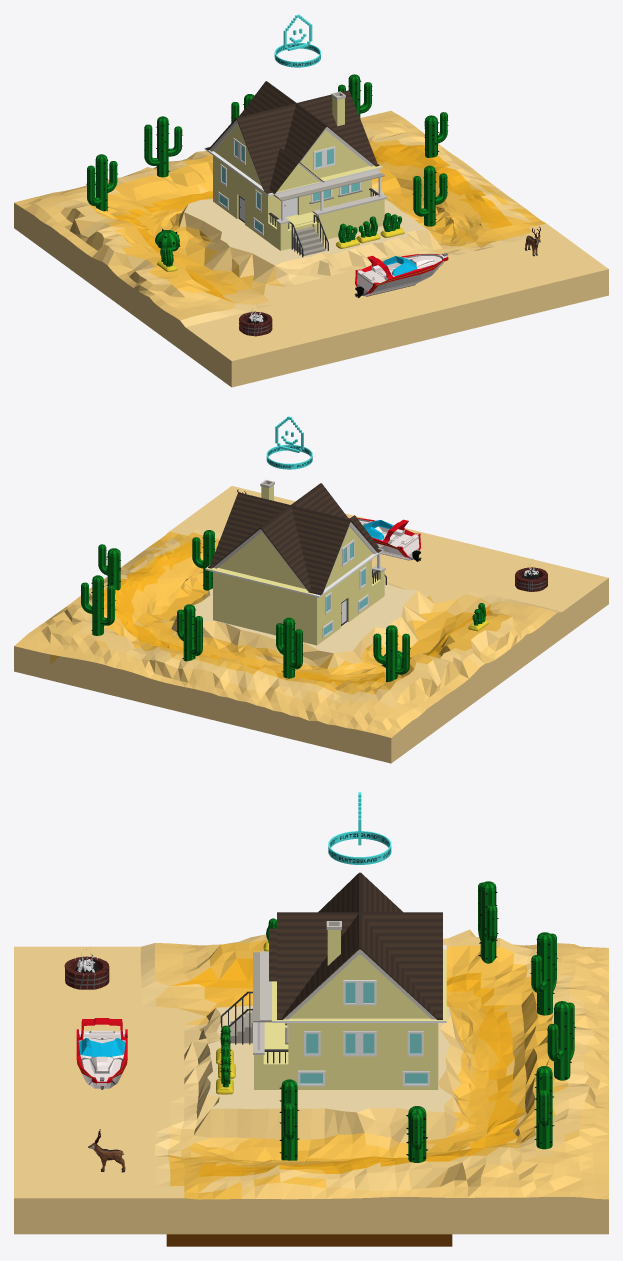
3 views of the same model, one above another, from view 1: azimuth 30°, elevation 25°; view 2: azimuth 150°, elevation 25°; view 3: azimuth 270°, elevation 25° (orthographic). The views are drawn at different scales.
Visible parts, largest first — view 1: Cube.001, Cube.1555, VEHICLES_BOAT, Cylinder.044, Cylinder.037, Cylinder.045, TYPE_PREMIUM, Cylinder.038, OBJRANDOM_CAMPFIRE, Cylinder.042; view 2: Cube.001, Cube.1555, VEHICLES_BOAT, Cylinder.042, Cylinder.045, Cylinder.044, Cylinder.043, TYPE_PREMIUM, Cylinder.037, Cylinder.038, OBJRANDOM_CAMPFIRE; view 3: Cube.001, Cube.1555, UNDERGROUND_ART_PIECE_VAN_GOGH, VEHICLES_BOAT, Cylinder.043, Cylinder.044, Cylinder.045, Cylinder.042, Cylinder.037, OBJRANDOM_CAMPFIRE, TYPE_PREMIUM, Cylinder.038.
Part boxes in pixels (x1,y1,x2,y2): Cube.001: (14,110,608,387); Cube.1555: (204,81,387,257); VEHICLES_BOAT: (354,253,448,297); Cylinder.044: (144,116,182,177); Cylinder.037: (413,165,447,226); Cylinder.045: (86,154,117,211); TYPE_PREMIUM: (274,14,320,67); Cylinder.038: (424,112,448,157); OBJRANDOM_CAMPFIRE: (239,310,272,336); Cylinder.042: (338,74,372,118); Cube.001: (14,486,608,763); Cube.1555: (205,479,386,645); VEHICLES_BOAT: (348,517,421,561); Cylinder.042: (81,575,115,635); Cylinder.045: (373,625,410,682); Cylinder.044: (276,617,302,678); Cylinder.043: (176,604,203,661); TYPE_PREMIUM: (266,416,312,469); Cylinder.037: (192,530,219,590); Cylinder.038: (98,544,120,590); OBJRANDOM_CAMPFIRE: (515,566,547,591); Cube.001: (14,929,608,1234); Cube.1555: (220,872,446,1089); UNDERGROUND_ART_PIECE_VAN_GOGH: (166,1234,452,1246); VEHICLES_BOAT: (76,1018,127,1089); Cylinder.043: (546,1001,575,1080); Cylinder.044: (530,932,557,1015); Cylinder.045: (478,881,498,963); Cylinder.042: (534,1066,554,1149); Cylinder.037: (279,1079,299,1160); OBJRANDOM_CAMPFIRE: (64,949,109,989); TYPE_PREMIUM: (328,792,391,864); Cylinder.038: (406,1106,428,1162).
Bounding box in the file's own units: 4002 × 2563 × 4001.
Materials: 35 (4 with a texture image).
